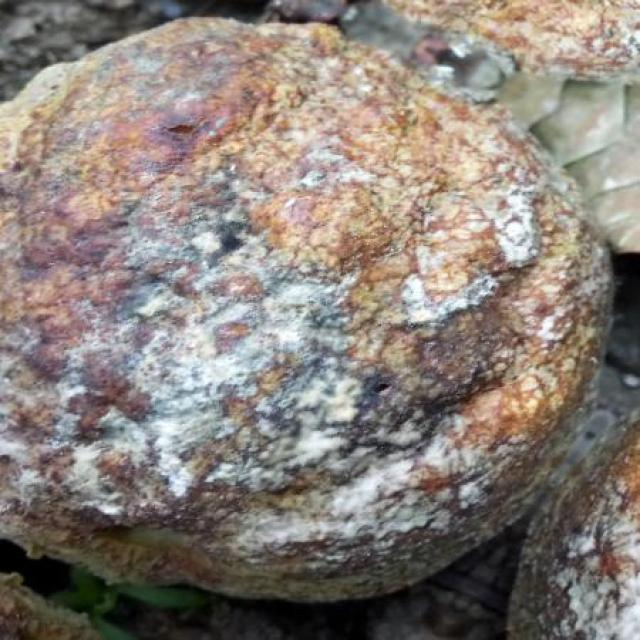Phytopthora: (0, 20, 612, 601), (389, 0, 640, 136), (508, 419, 640, 639)
